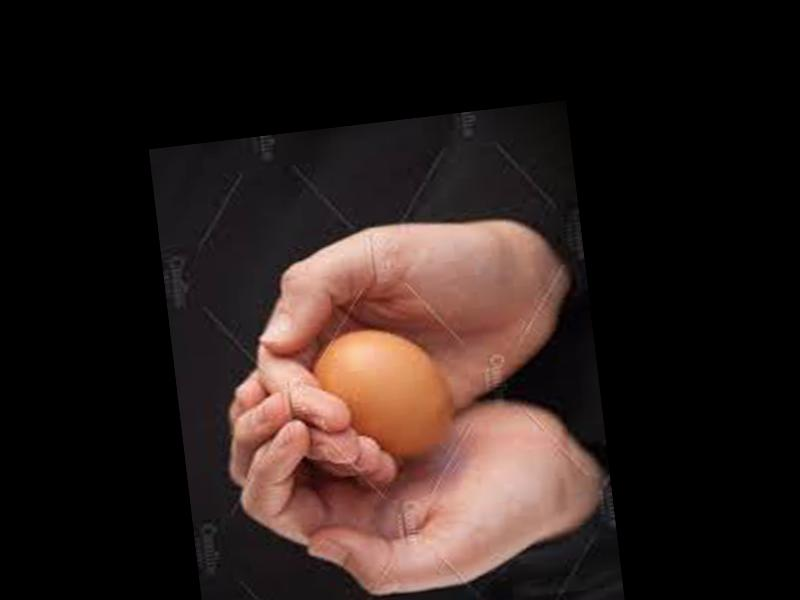Eggs: (313, 320, 459, 472)
